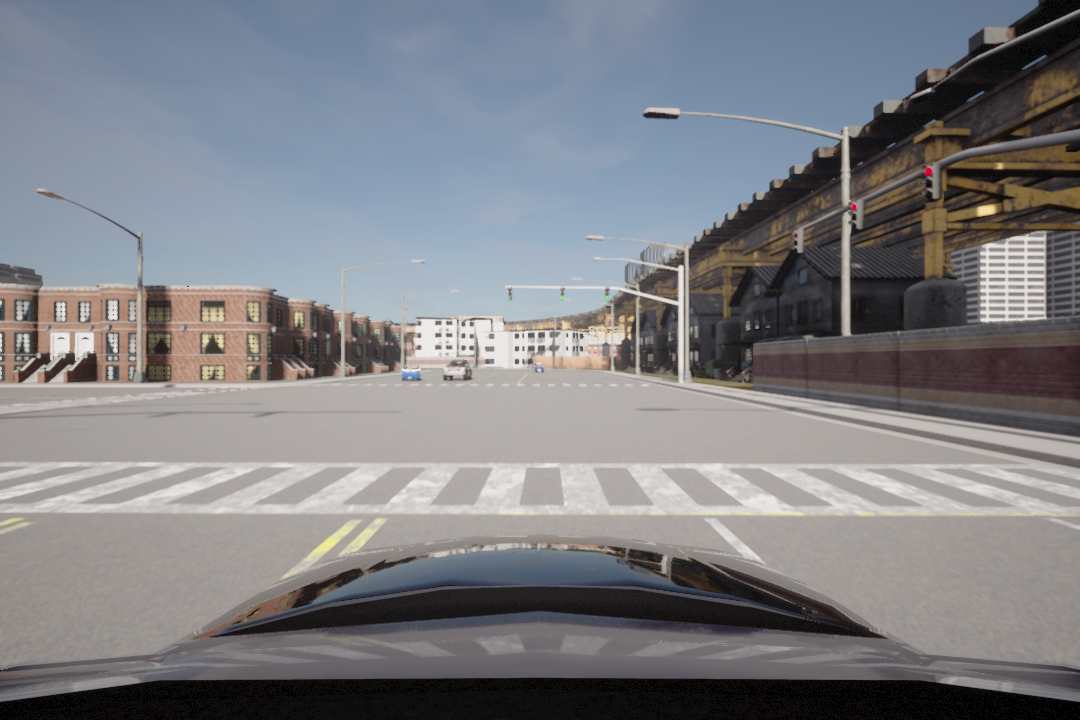TrafficLight: (924, 162, 941, 203), (848, 199, 864, 233), (791, 226, 808, 254), (602, 287, 611, 302), (558, 287, 565, 302), (506, 287, 513, 301)
walkside: (2, 462, 1080, 515)
